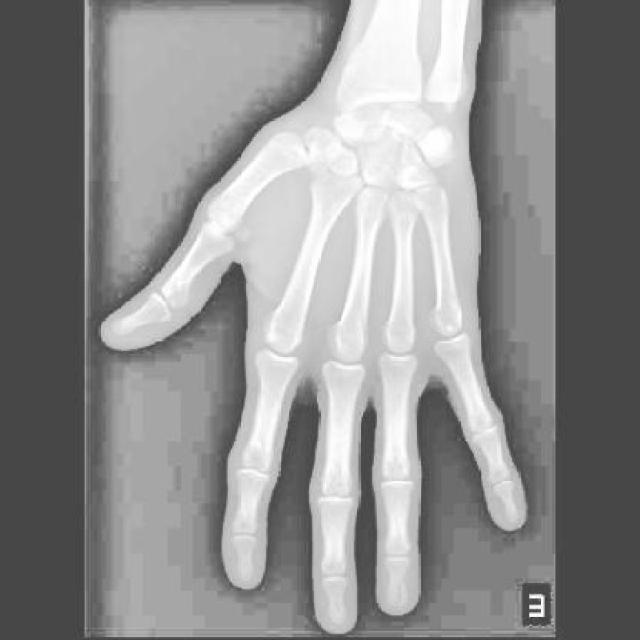Fracture: (379, 571, 424, 624)
